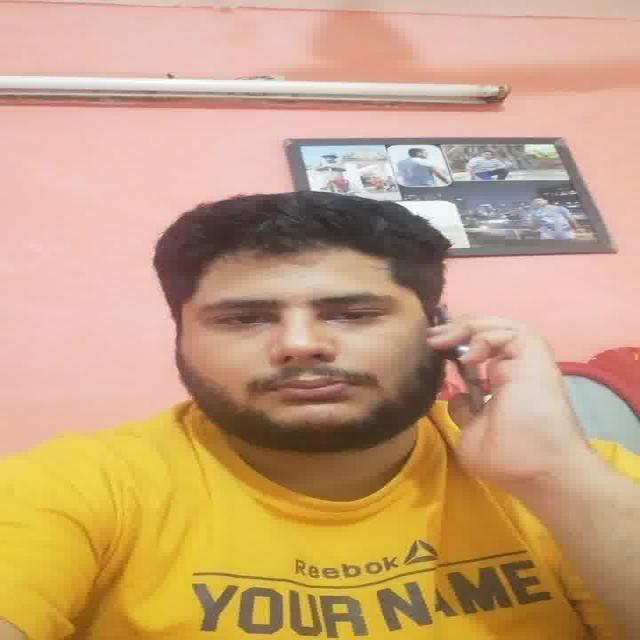Phone: (441, 344, 490, 414)
